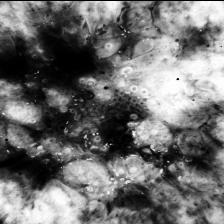Potentially Malignant Skin Tumors: (104, 107, 150, 155), (47, 51, 97, 80)
